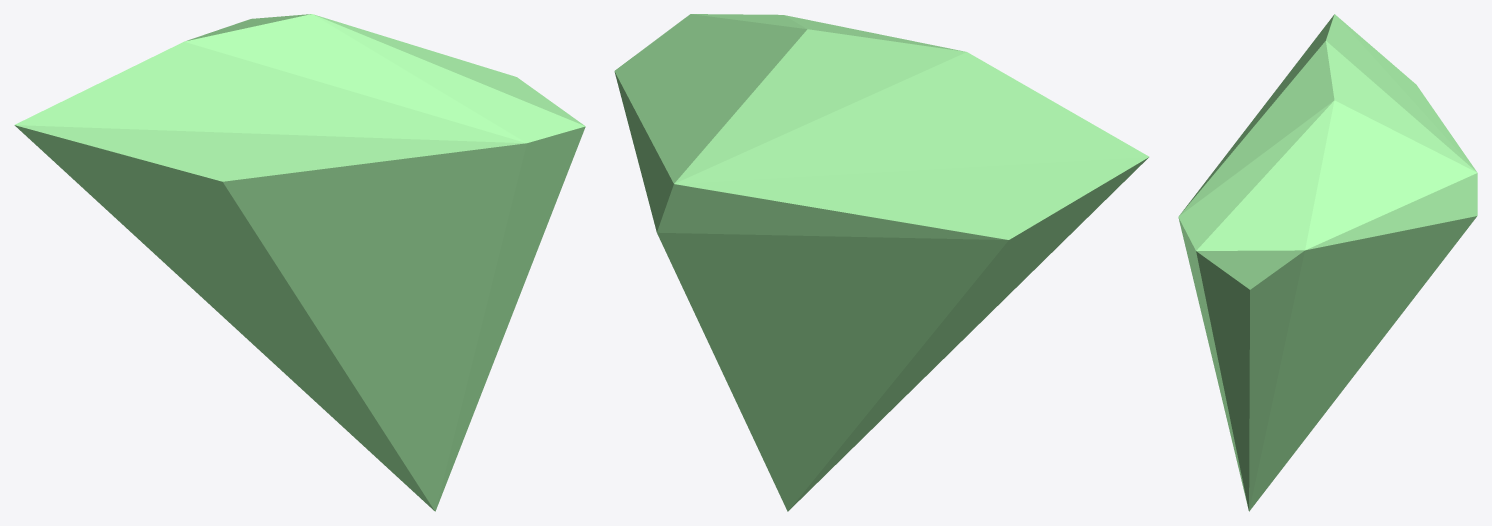
Rendered from UMIRobot_UMIRobot_link_4_convex_coll_5.dae.
3 views of the same model, side by side, from view 1: azimuth 30°, elevation 25°; view 2: azimuth 150°, elevation 25°; view 3: azimuth 270°, elevation 25° (orthographic). The views are drawn at different scales.
Parts seen in each view (by area): view 1: node; view 2: node; view 3: node.
Boxes of the visible parts, box(x1,y1,x2,y2) form: node: box(14, 14, 585, 511); node: box(614, 14, 1149, 511); node: box(1178, 14, 1477, 511).
Size of the model in its own units: 0.0222 by 0.0209 by 0.0145.
